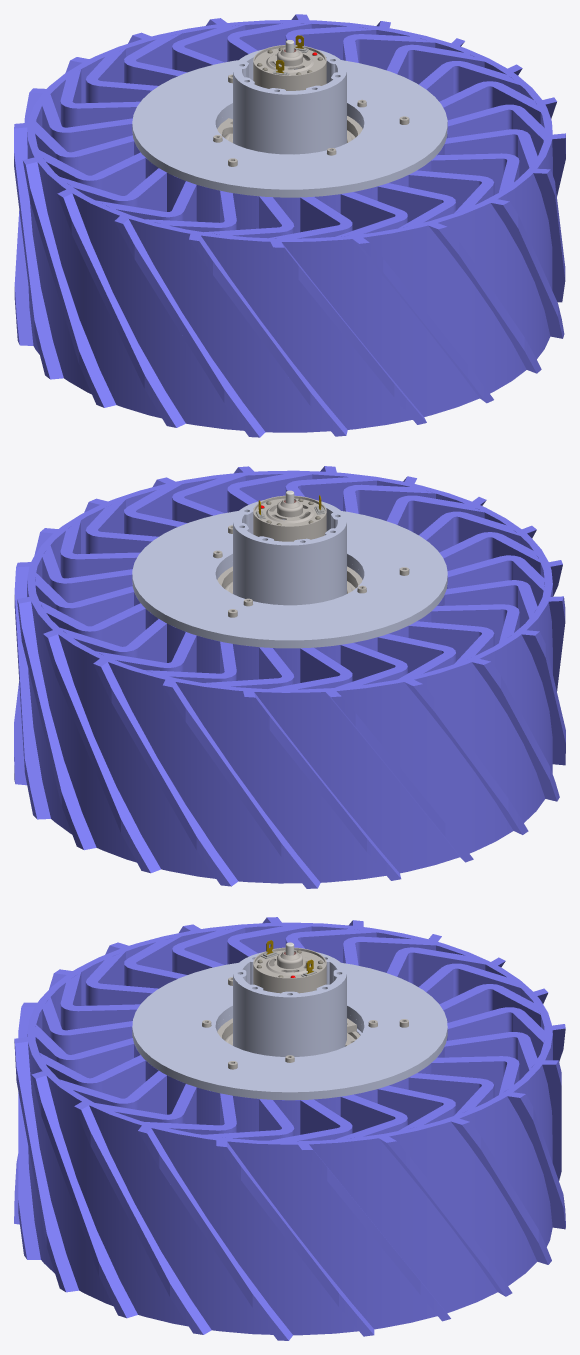
File: Wheel-R.obj
3 views of the same model, one above another, from view 1: azimuth 30°, elevation 25°; view 2: azimuth 150°, elevation 25°; view 3: azimuth 270°, elevation 25° (orthographic).
Parts seen in each view (by area): view 1: hub_motor_2025_asem; view 2: hub_motor_2025_asem; view 3: hub_motor_2025_asem.
Part boxes in pixels (left/top/right/bottom): hub_motor_2025_asem: left=14, top=14, right=565, bottom=437; hub_motor_2025_asem: left=14, top=466, right=565, bottom=888; hub_motor_2025_asem: left=14, top=917, right=565, bottom=1340.
Size of the model in its own units: 0.315 by 0.1845 by 0.315.
